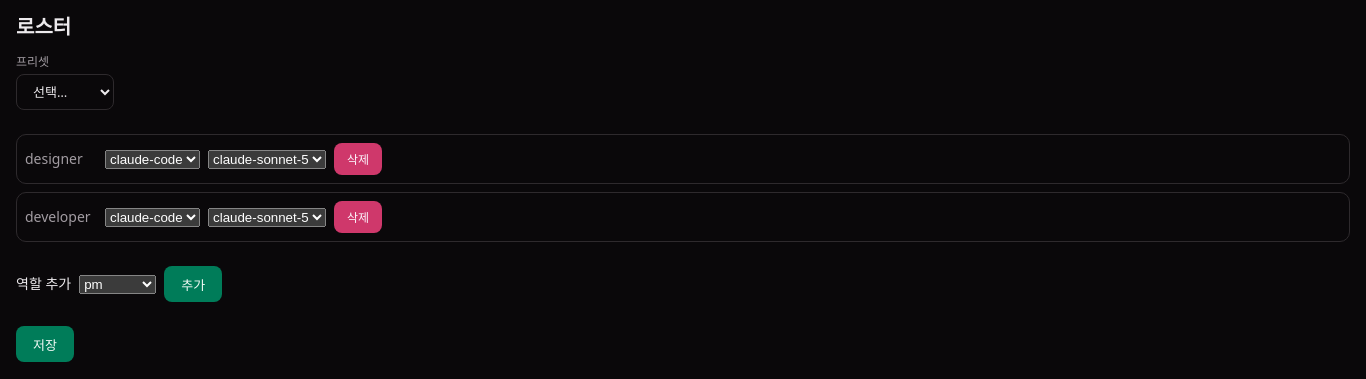
RosterPanel › loads presets/harnesses/roster, applies a selected preset to the draft, and saves it
Expected: the dropdown named "designer 모델" shows "claude-sonnet-5", x1=208 y1=150 x2=326 y2=169
Select "절약 모드" in the dropdown labelled "프리셋" at (65, 92), box x1=16 y1=74 x2=114 y2=110
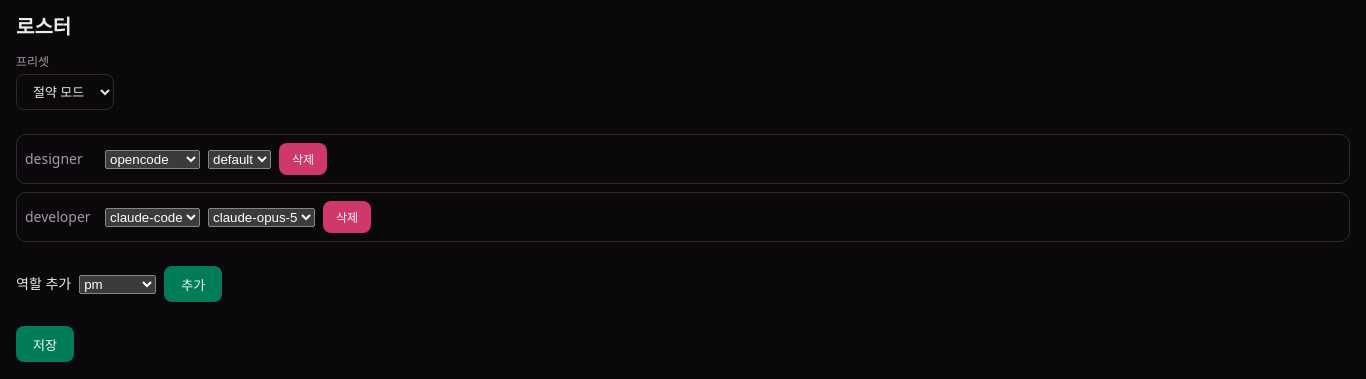
Expected: the dropdown named "designer 모델" shows "default", x1=208 y1=150 x2=271 y2=169
Expected: the dropdown named "developer 모델" shows "claude-opus-5", x1=208 y1=208 x2=315 y2=227
Click the button "저장" at (45, 344), box x1=16 y1=326 x2=74 y2=362
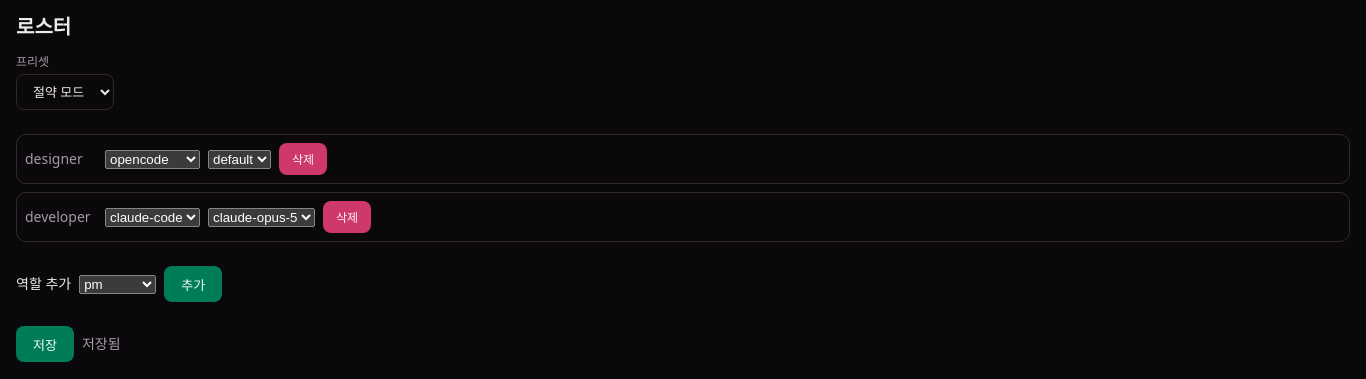
Expected: the text "저장됨" is shown, x1=82 y1=334 x2=120 y2=354
